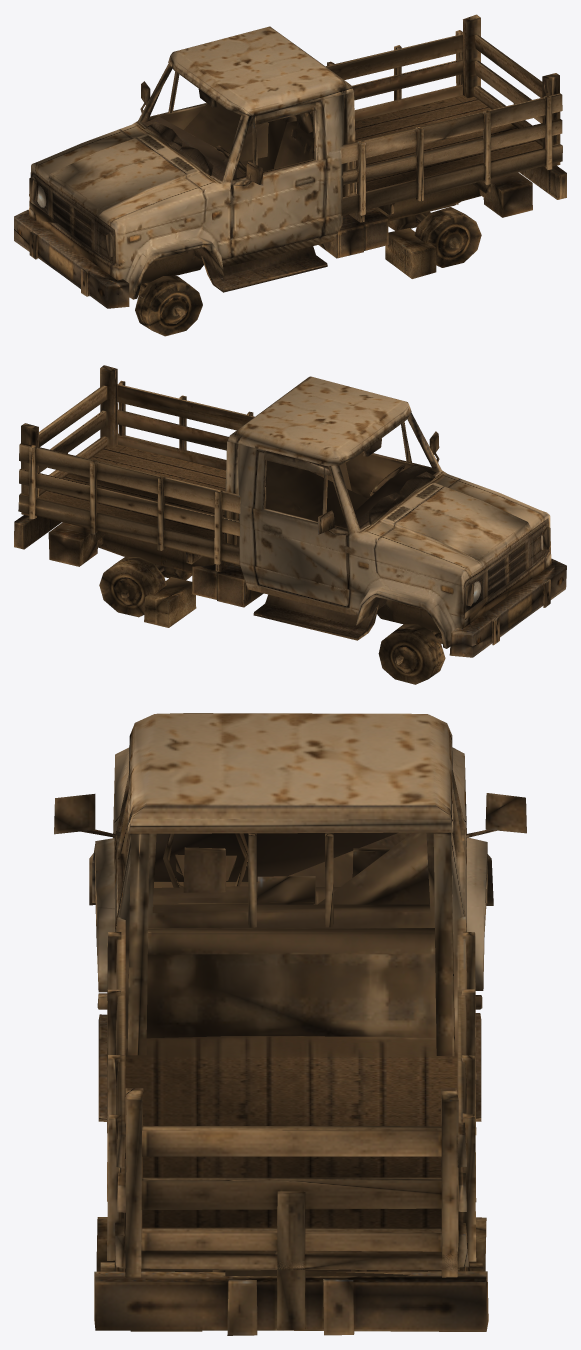
File: Meshy_AI_Rustyard_Relic_0831095125_texture.fbx
The picture shows the model from 3 angles, top to bottom: view 1: azimuth 30°, elevation 25°; view 2: azimuth 150°, elevation 25°; view 3: azimuth 270°, elevation 25°; orthographic projection. The views are drawn at different scales.
Parts seen in each view (by area): view 1: mesh_node; view 2: mesh_node; view 3: mesh_node.
Part boxes in pixels (x1,y1,x2,y2): mesh_node: (14, 14, 566, 336); mesh_node: (14, 365, 566, 684); mesh_node: (54, 713, 526, 1335).
Bounding box in the file's own units: 99.8 × 42.87 × 44.53.
Materials: 1 (1 with a texture image).
